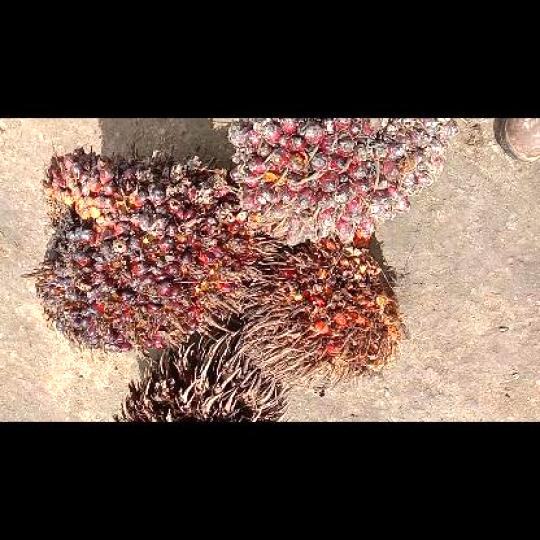kurang masak: (224, 118, 461, 248)
masak: (20, 144, 268, 354)
terlalu masak: (240, 234, 406, 389)
